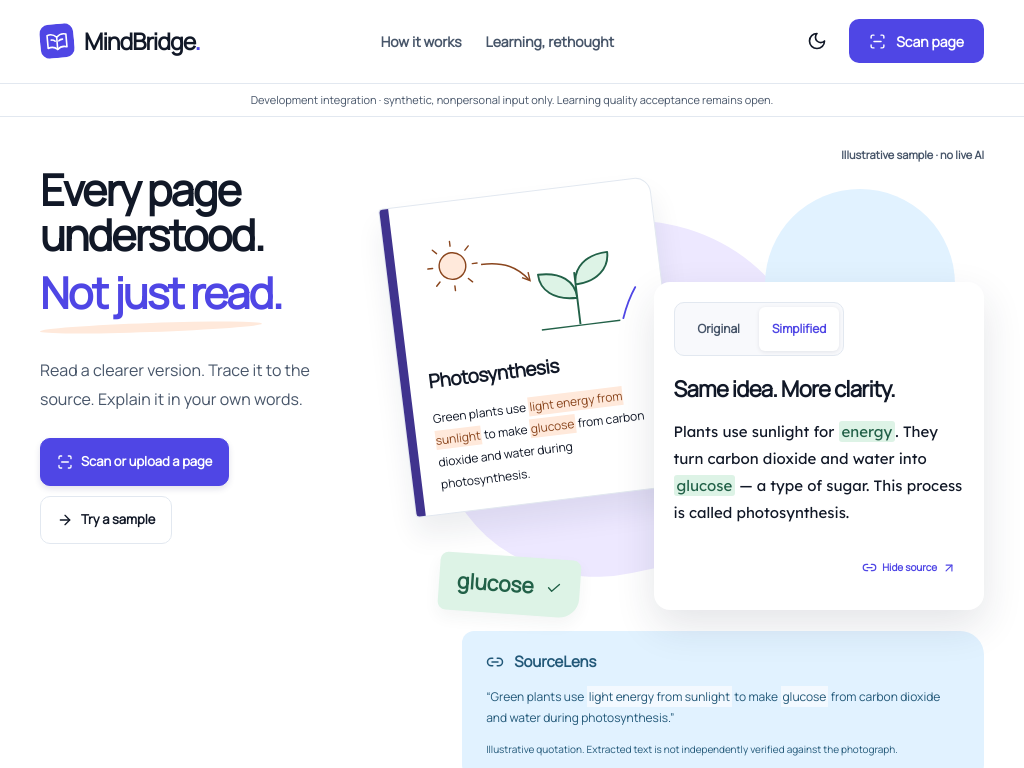
Test case: Image validation & ScanPage flow › opens the labelled Preprocessed sample from HomePage
Click the button "Try a sample": (106,520) [40, 496, 172, 544]
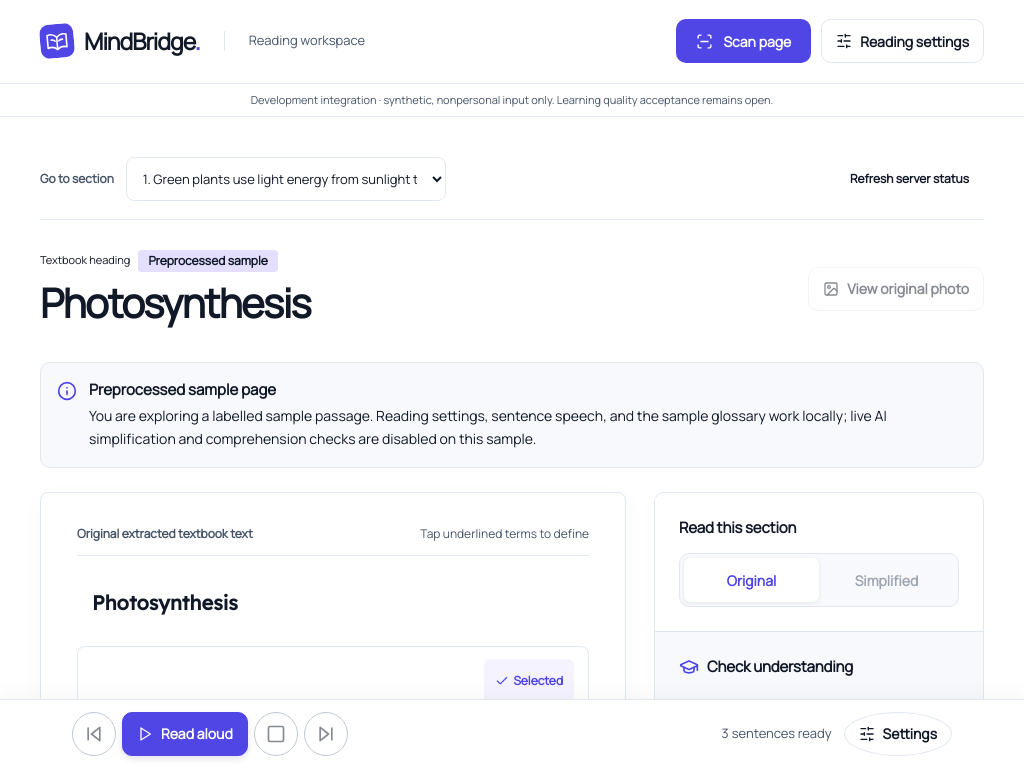
Expected: the heading "Photosynthesis" below "Textbook heading" is shown, [40, 278, 310, 328]
Expected: the text "Preprocessed sample page" is shown, [89, 379, 276, 400]
